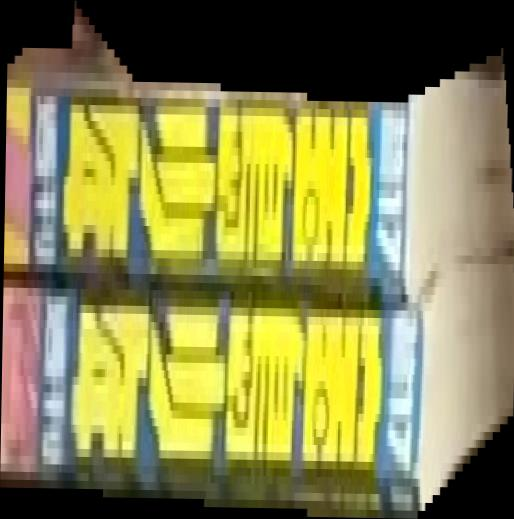flat: (1, 1, 514, 519)
